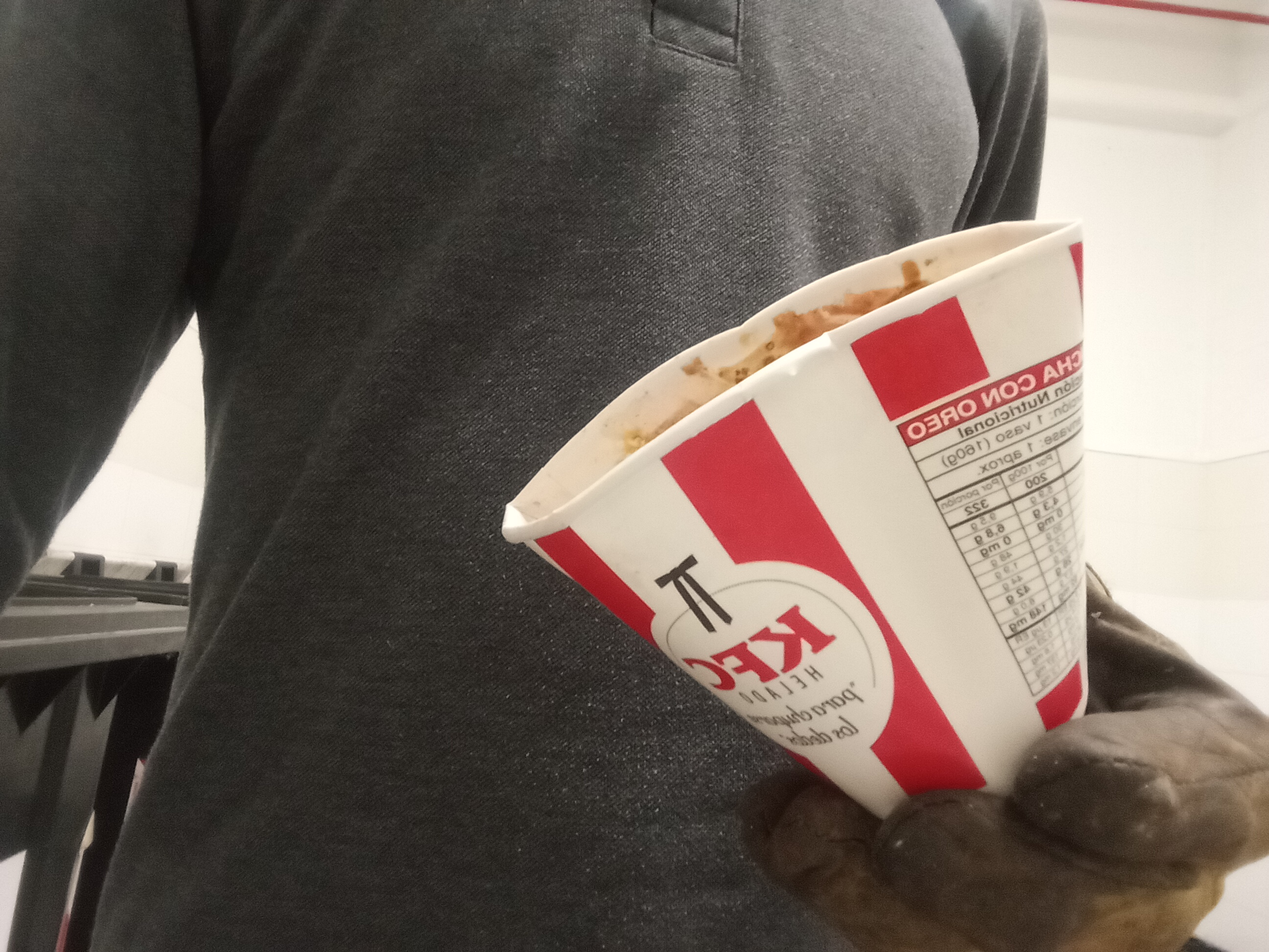Carton: (503, 219, 1090, 822)
